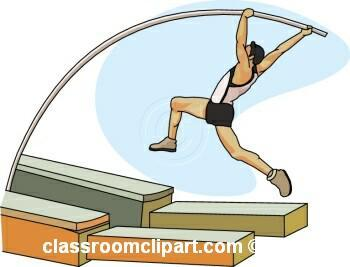person: (142, 9, 307, 198)
